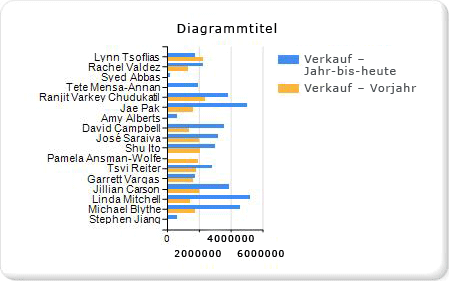canvas: (169, 45, 263, 227)
legend: (273, 50, 424, 104)
title: (174, 19, 285, 38)
x-axis: (161, 227, 269, 232)
x-labels: (171, 247, 287, 263), (162, 233, 258, 247)
y-axis: (161, 43, 169, 228)
y-labels: (38, 44, 161, 227)
